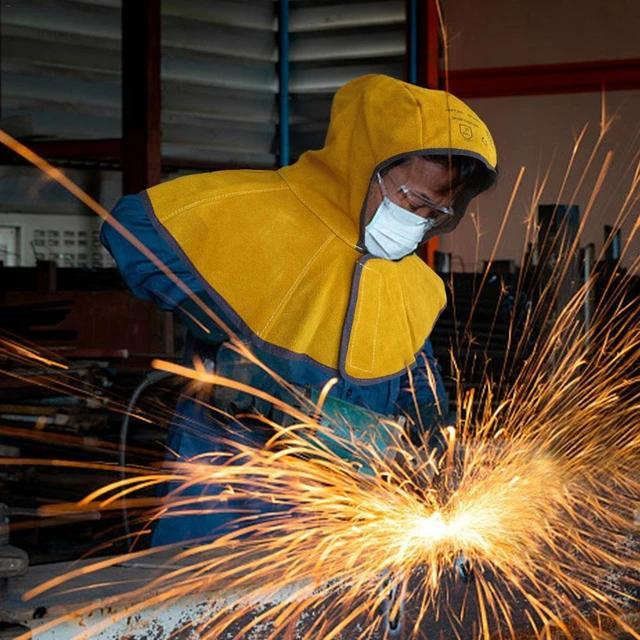glasses: (392, 190, 460, 226)
mask: (369, 207, 436, 260)
